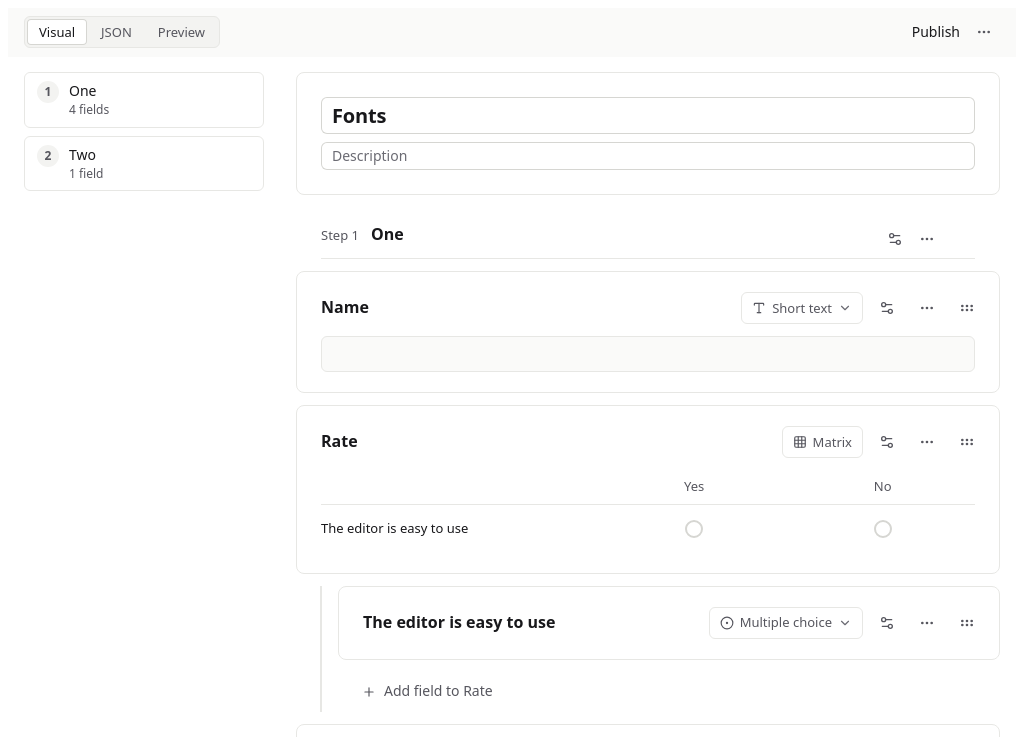
overlays inherit the editor font on a serif host page › uses the editor font in the bottom sheet at 390
Click the 3rd text box named "Field label".
click(459, 622)  # box [363, 610, 555, 634]
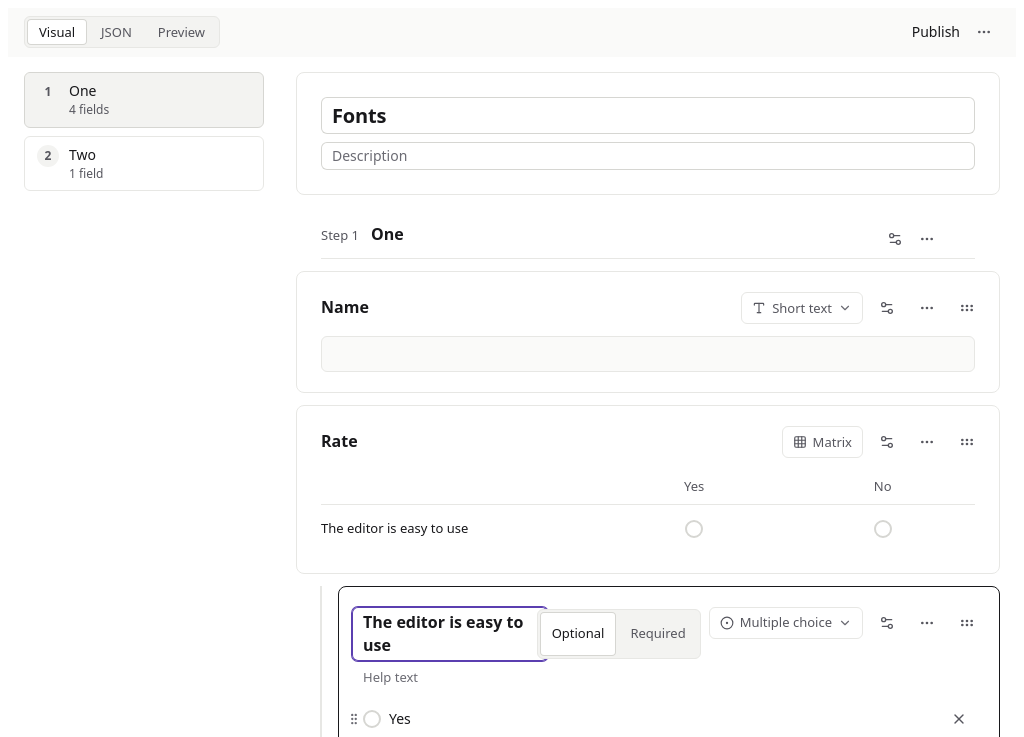
Click the button "Multiple choice".
click(786, 622)  # box [709, 606, 863, 638]
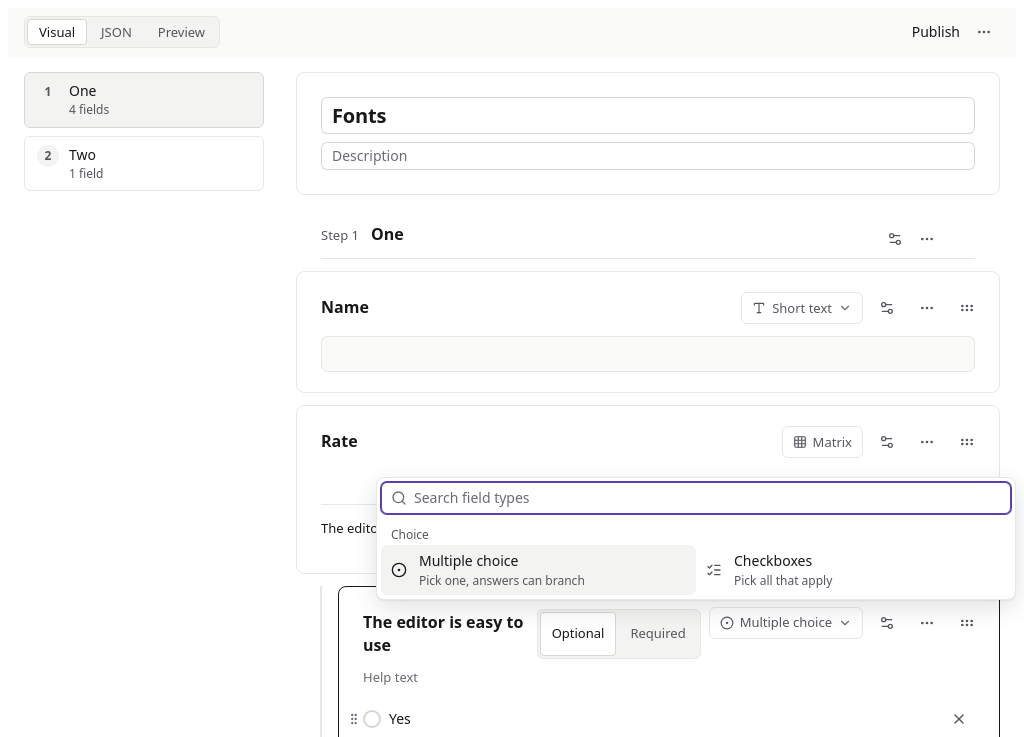
Check: the dialog named "Matrix rows are multiple choice or checkboxes" is shown, box [376, 477, 1016, 600]
